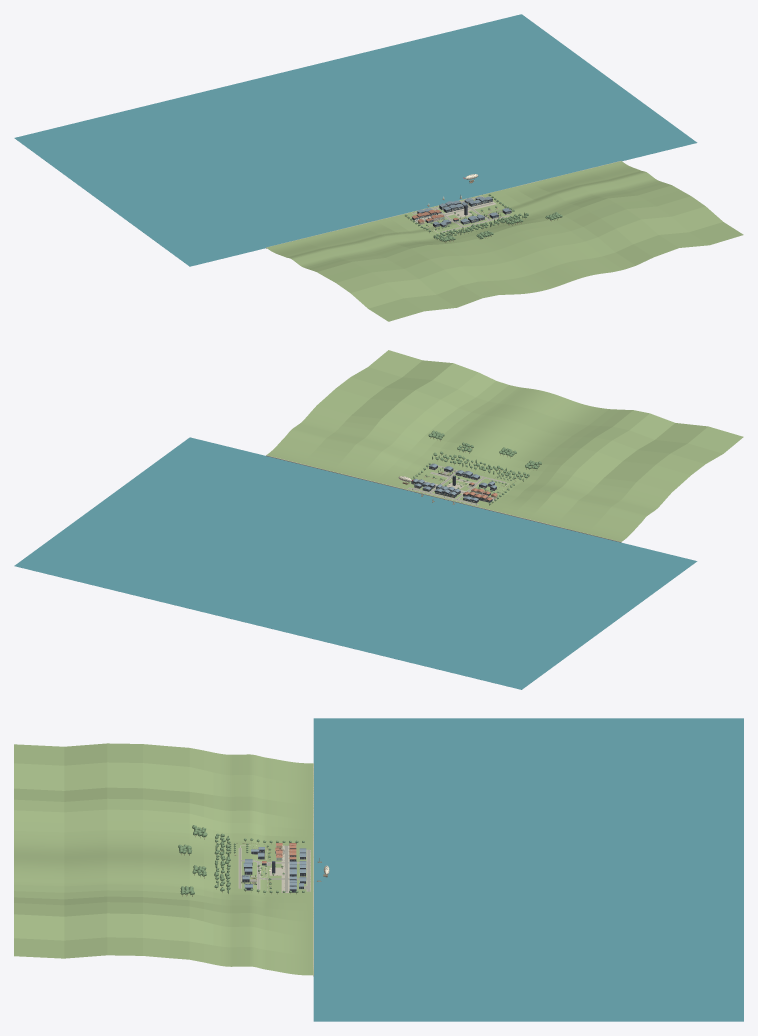
The model's file is KorikoNeighborhood.fbx.
The picture shows the model from 3 angles, top to bottom: view 1: azimuth 30°, elevation 25°; view 2: azimuth 150°, elevation 25°; view 3: azimuth 270°, elevation 25°; orthographic projection. The views are drawn at different scales.
Parts seen in each view (by area): view 1: Landscape__Sea, COL_Ground; view 2: Landscape__Sea, COL_Ground, Landscape__Paint_7, Wooded_Hills__Paint_10; view 3: Landscape__Sea, COL_Ground, Background_Groves__Paint_10, Wooded_Hills__Paint_10, Streets__Paint_7, Streets__Paint_8.
Part boxes in pixels (<box>): Landscape__Sea: <box>14,14,697,266</box>; COL_Ground: <box>266,161,743,321</box>; Landscape__Sea: <box>14,437,697,689</box>; COL_Ground: <box>266,350,743,541</box>; Landscape__Paint_7: <box>266,455,621,542</box>; Wooded_Hills__Paint_10: <box>432,451,529,481</box>; Landscape__Sea: <box>313,718,743,1021</box>; COL_Ground: <box>14,743,313,975</box>; Background_Groves__Paint_10: <box>178,825,304,894</box>; Wooded_Hills__Paint_10: <box>214,833,230,893</box>; Streets__Paint_7: <box>238,845,310,892</box>; Streets__Paint_8: <box>239,845,309,892</box>.
Size of the model in its own units: 2000 by 75.67 by 2036.
